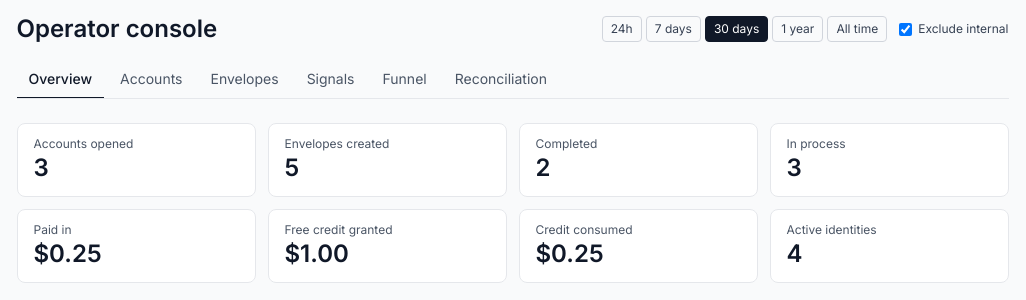
Test: AdminConsolePage (F-34, #148) › the Accounts tab renders the Human/Agent + Programmatic badges (AC-184/185)
Expected: the button with test id "admin-kpi-accountsOpened" is shown, [16,123,256,197]
Click the button with test id "admin-tab-accounts".
click(151, 80)  # box [108,61,194,99]
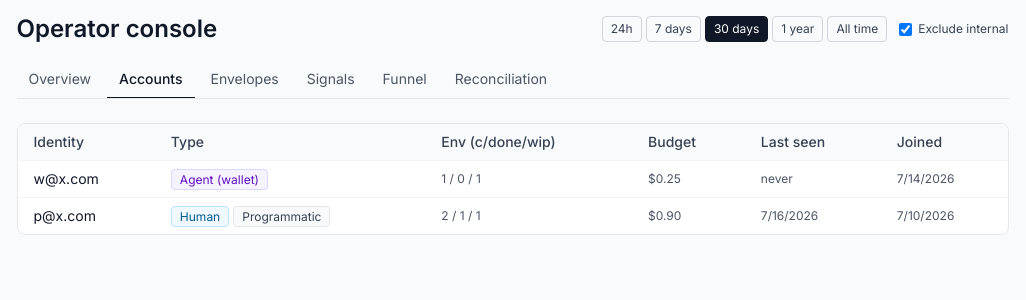
Expected: the text "w@x.com" is shown, [18,160,155,198]
Expected: the text with test id "admin-account-badge-w@x.com" shows "Agent", [180,172,259,187]
Expected: the text with test id "admin-account-badge-p@x.com" reads "Human", [180,209,220,224]
